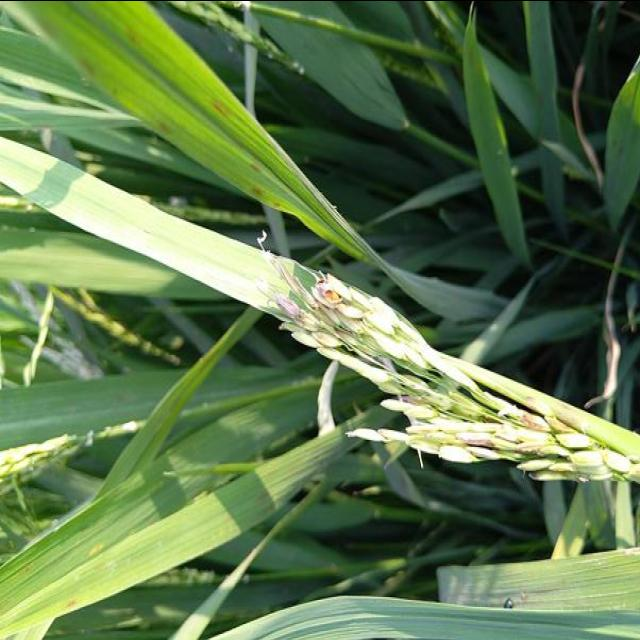Panicle Blight: (275, 263, 369, 345), (452, 411, 576, 462), (518, 452, 630, 481)
